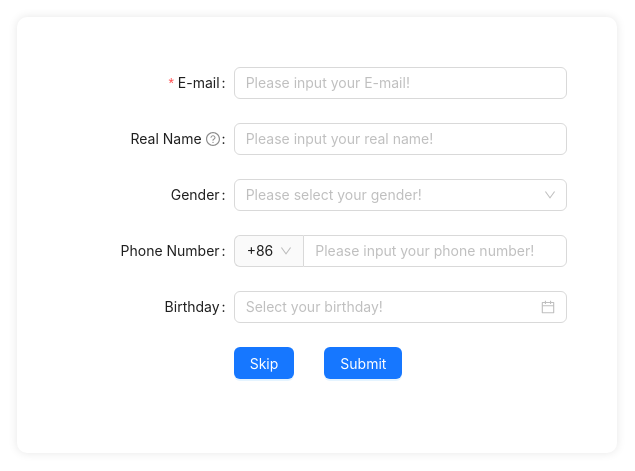
Scenario: EditProfiles › should show error if email and phone number is empty
Click the button "Submit" at (363, 363), box 324,347 -> 402,379
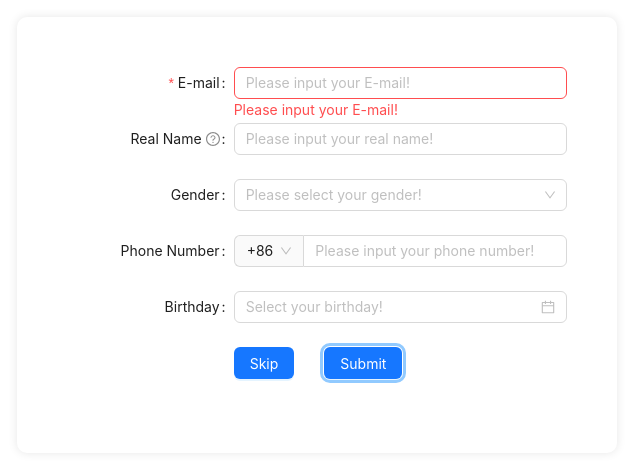
Check: the text "Please input your E-mail!" is shown, box 234,101 -> 398,118
